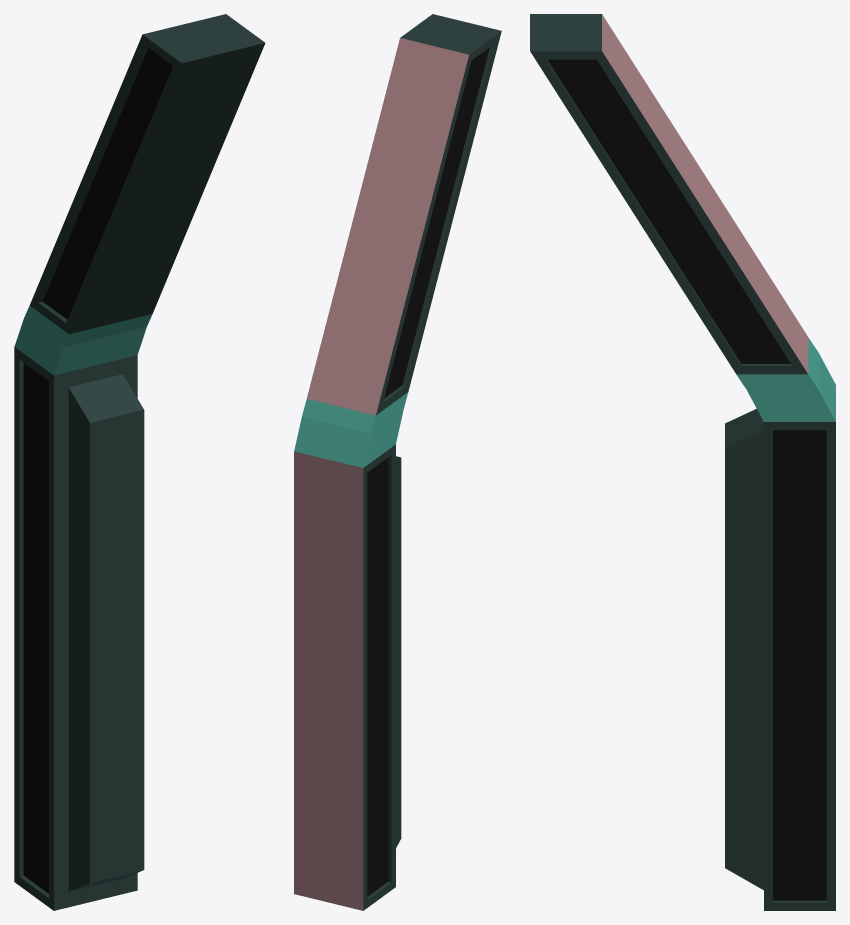
The model's file is poutre au mur.fbx.
The picture shows the model from 3 angles, left to right: view 1: azimuth 30°, elevation 25°; view 2: azimuth 150°, elevation 25°; view 3: azimuth 270°, elevation 25°; orthographic projection. The views are drawn at different scales.
Parts seen in each view (by area): view 1: Box029; view 2: Box029; view 3: Box029.
Boxes of the visible parts, bbox=[...] form: Box029: bbox=[14, 14, 265, 910]; Box029: bbox=[294, 14, 501, 910]; Box029: bbox=[530, 14, 835, 910].
Bounding box in the file's own units: 96.35 × 1037 × 334.
